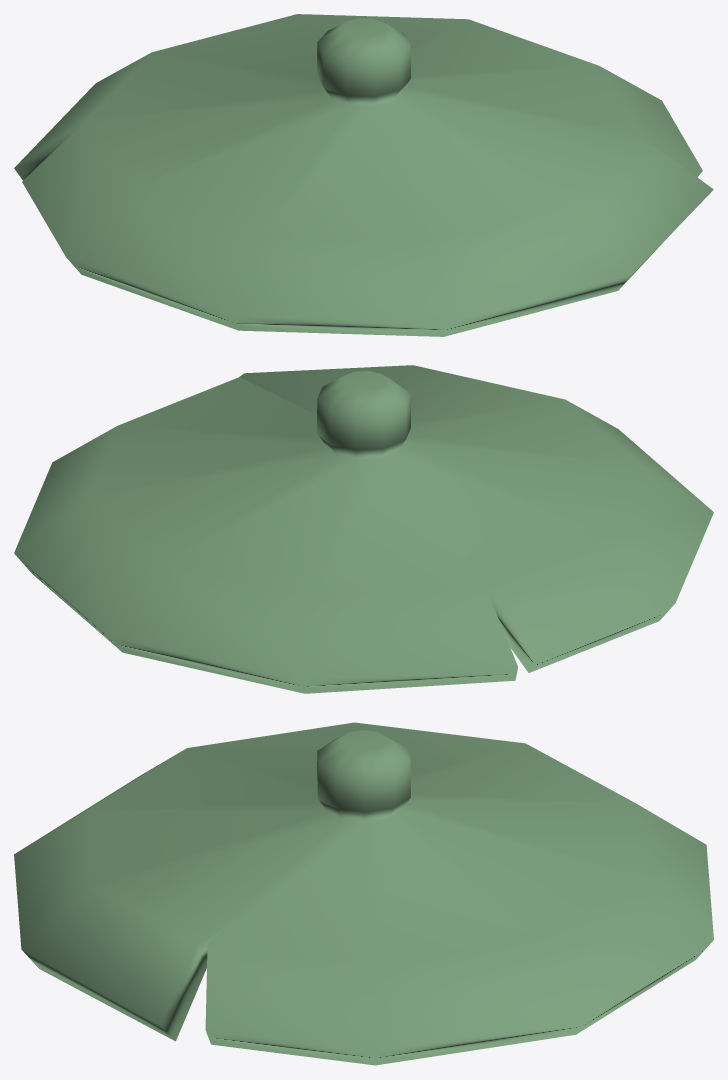
File: Seto_TeapotLid_R.fbx
3 views of the same model, one above another, from view 1: azimuth 30°, elevation 25°; view 2: azimuth 150°, elevation 25°; view 3: azimuth 270°, elevation 25° (orthographic). The views are drawn at different scales.
Visible parts, largest first — view 1: Seto_TeapotLid_R; view 2: Seto_TeapotLid_R; view 3: Seto_TeapotLid_R.
Part boxes in pixels (x1,y1,x2,y2): Seto_TeapotLid_R: (14, 14, 713, 336); Seto_TeapotLid_R: (14, 365, 713, 693); Seto_TeapotLid_R: (14, 722, 713, 1065).
Size of the model in its own units: 19.55 by 5.31 by 18.79.
Materials: 1 (1 with a texture image).
